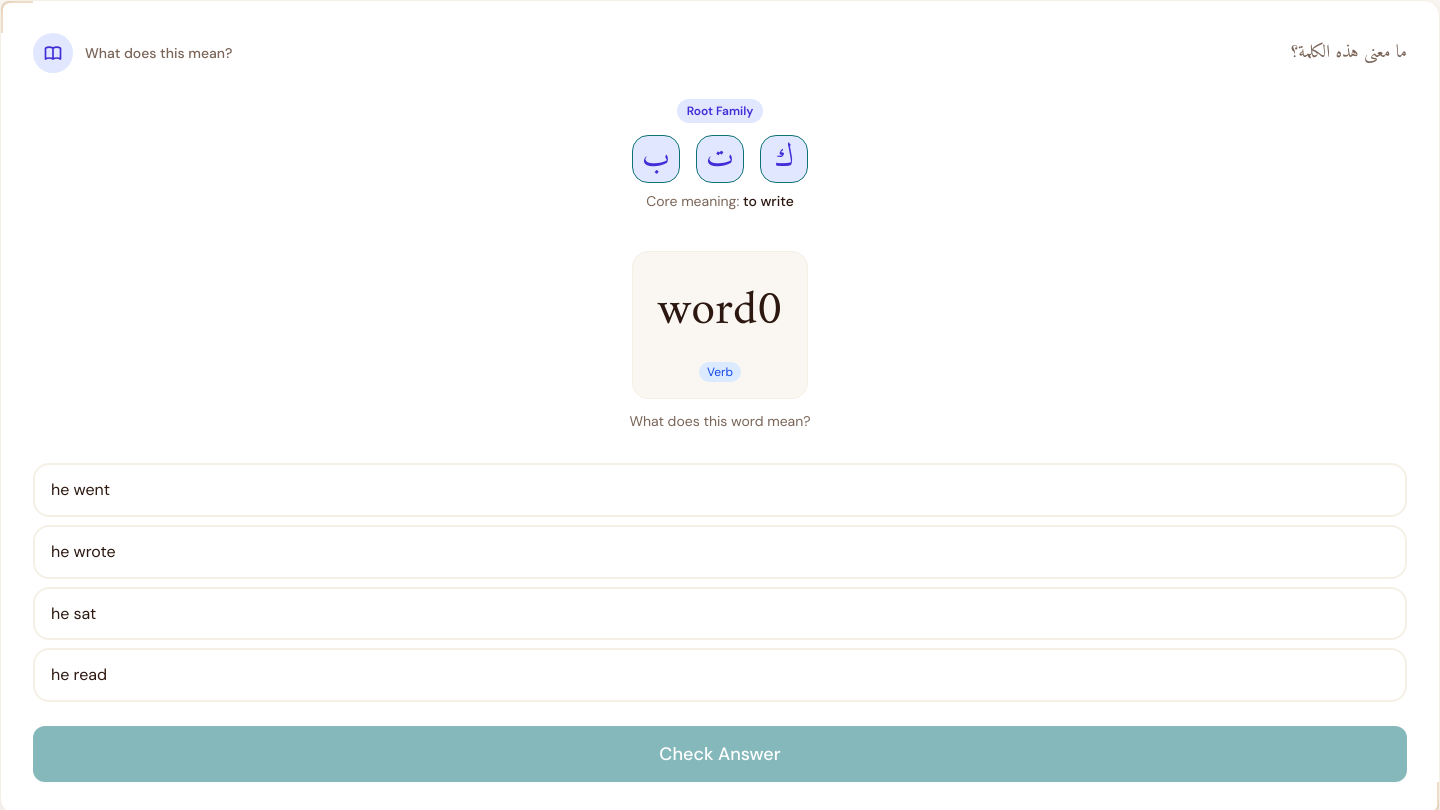
Test: RootFamilyExercise - Related Words › shows "+N more" indicator for families with many words
Note: Select and submit
Click the button "he wrote" at (83, 551), box [33,525,1407,579]
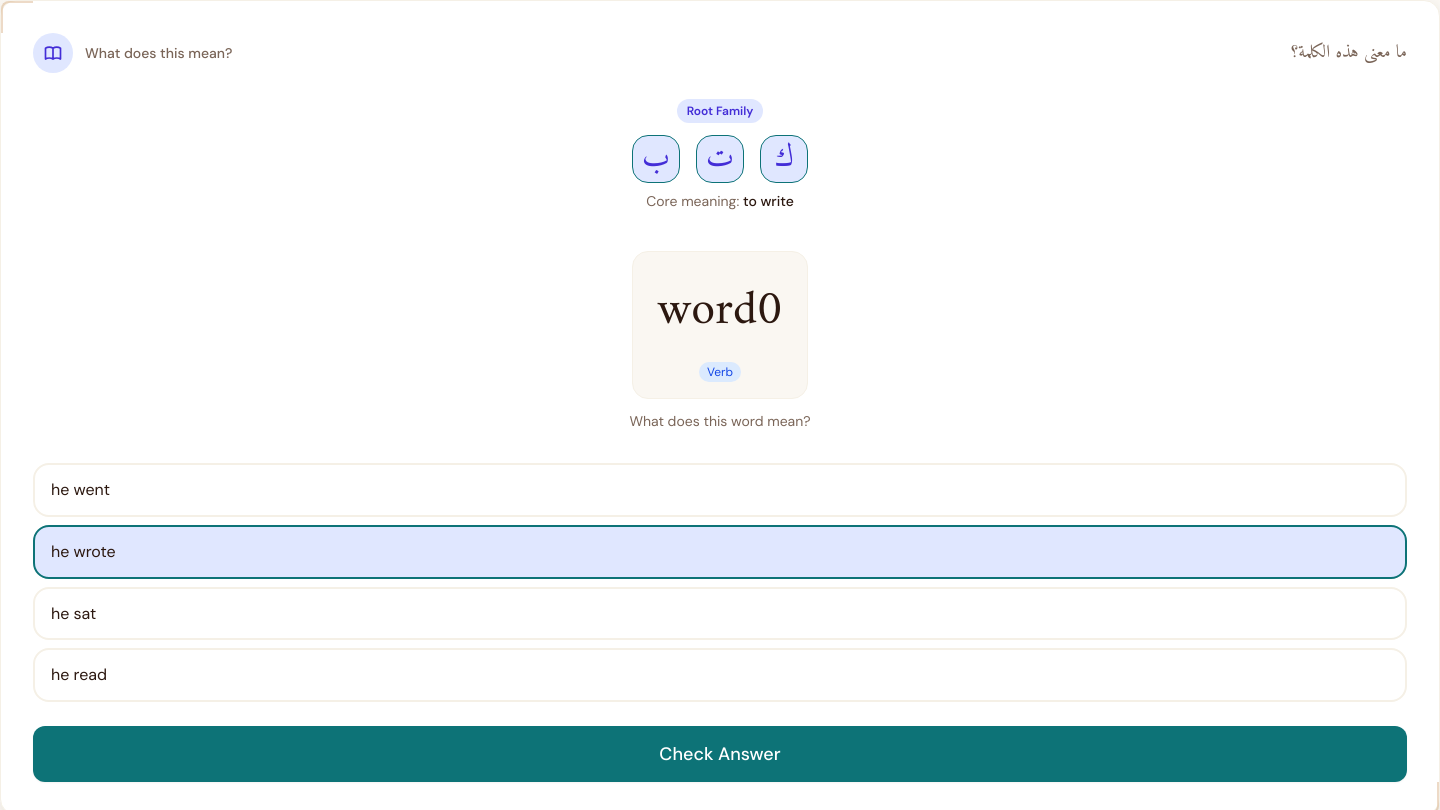
Click the button "Check Answer" at (720, 754), box [33,726,1407,782]
(page scrolled)
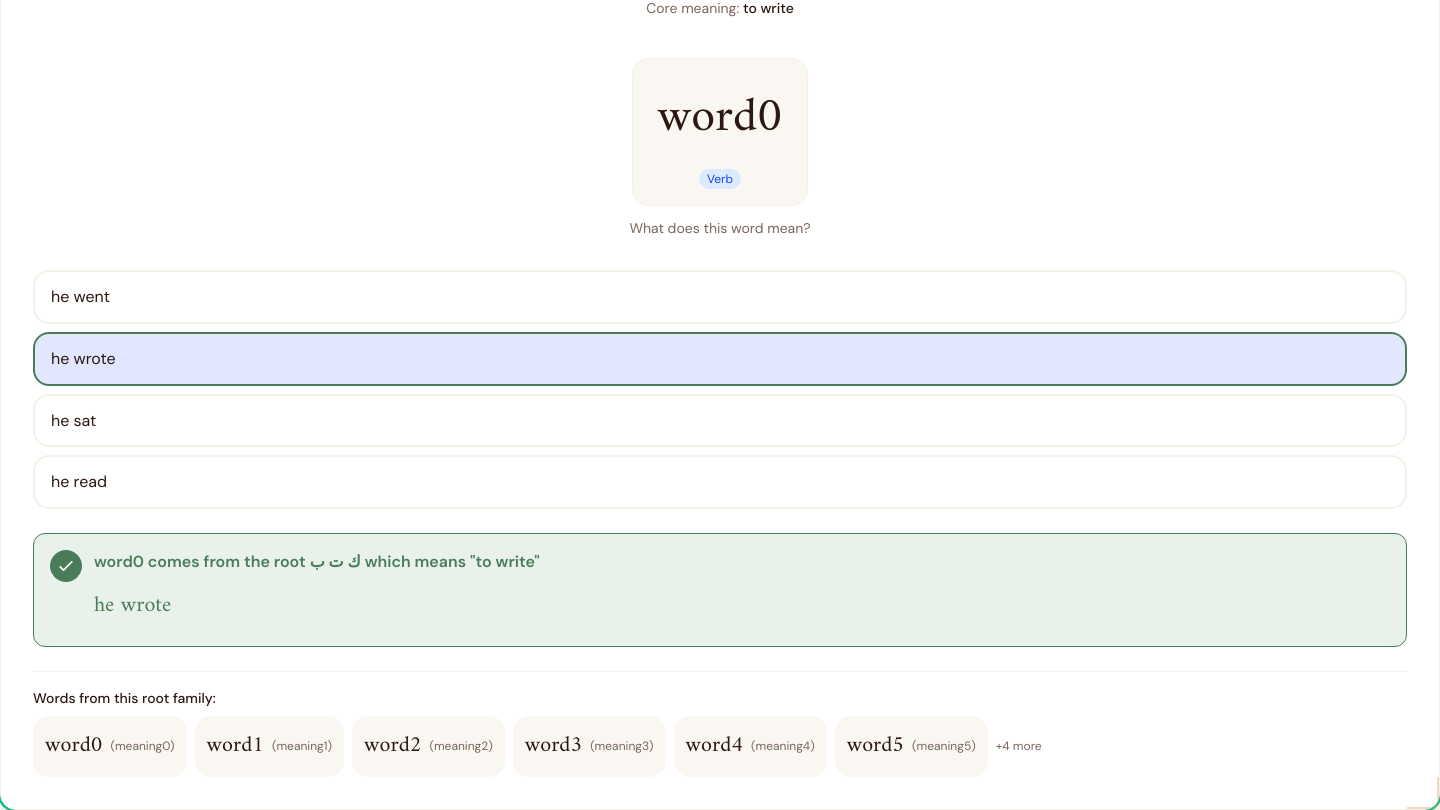
expect the text "+4 more" is shown: met, box [996,738,1042,754]
